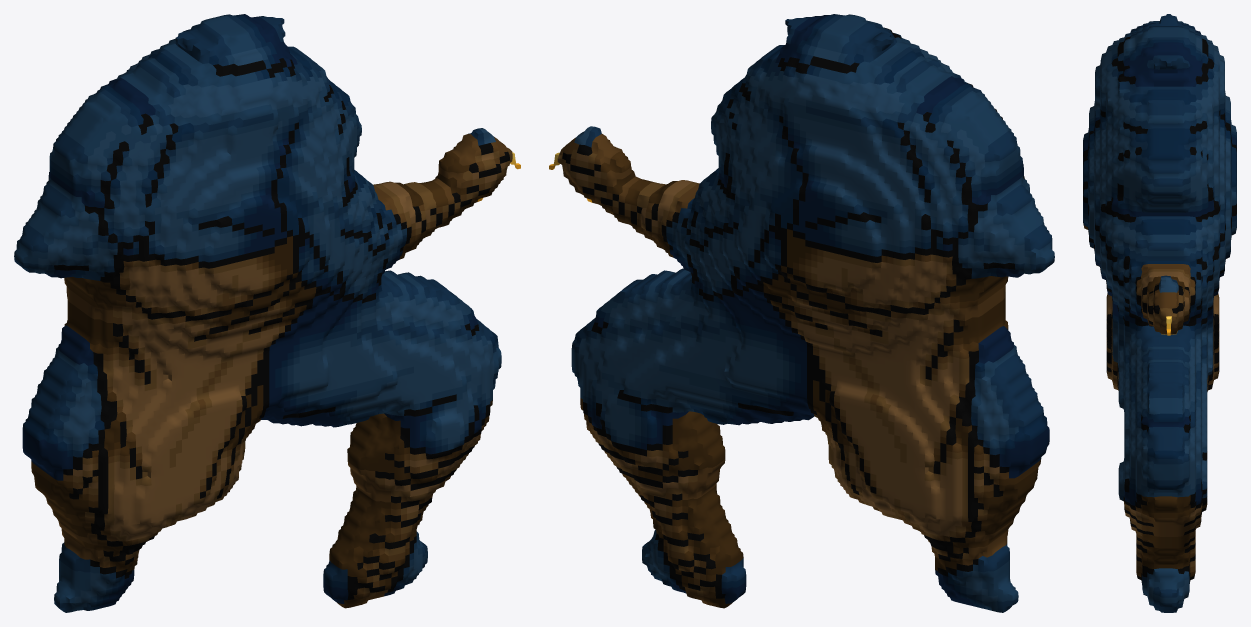
File: Fight_705_2_10.obj
The picture shows the model from 3 angles, left to right: view 1: azimuth 30°, elevation 25°; view 2: azimuth 150°, elevation 25°; view 3: azimuth 270°, elevation 25°; orthographic projection. The views are drawn at different scales.
Size of the model in its own units: 8.28 by 9.6 by 2.6.
